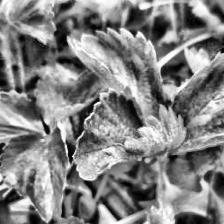Powdery Mildew Leaf: (72, 88, 187, 182), (66, 28, 166, 125), (171, 45, 224, 155)
